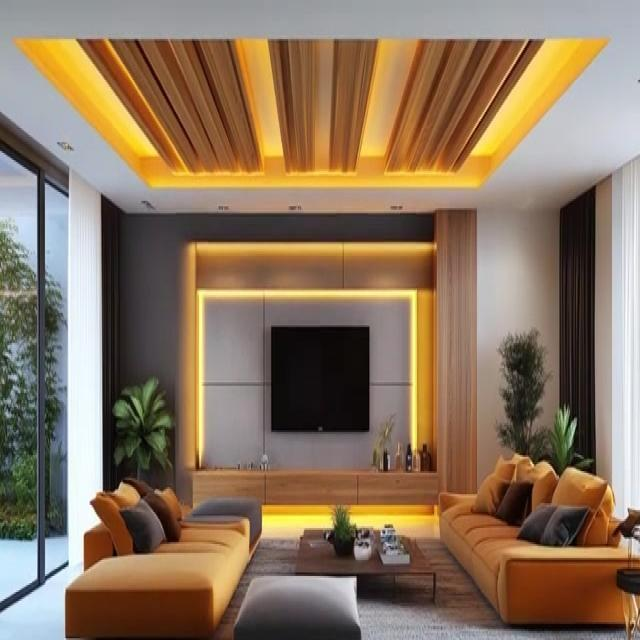obstacle: (438, 453, 639, 628), (65, 474, 262, 638)
